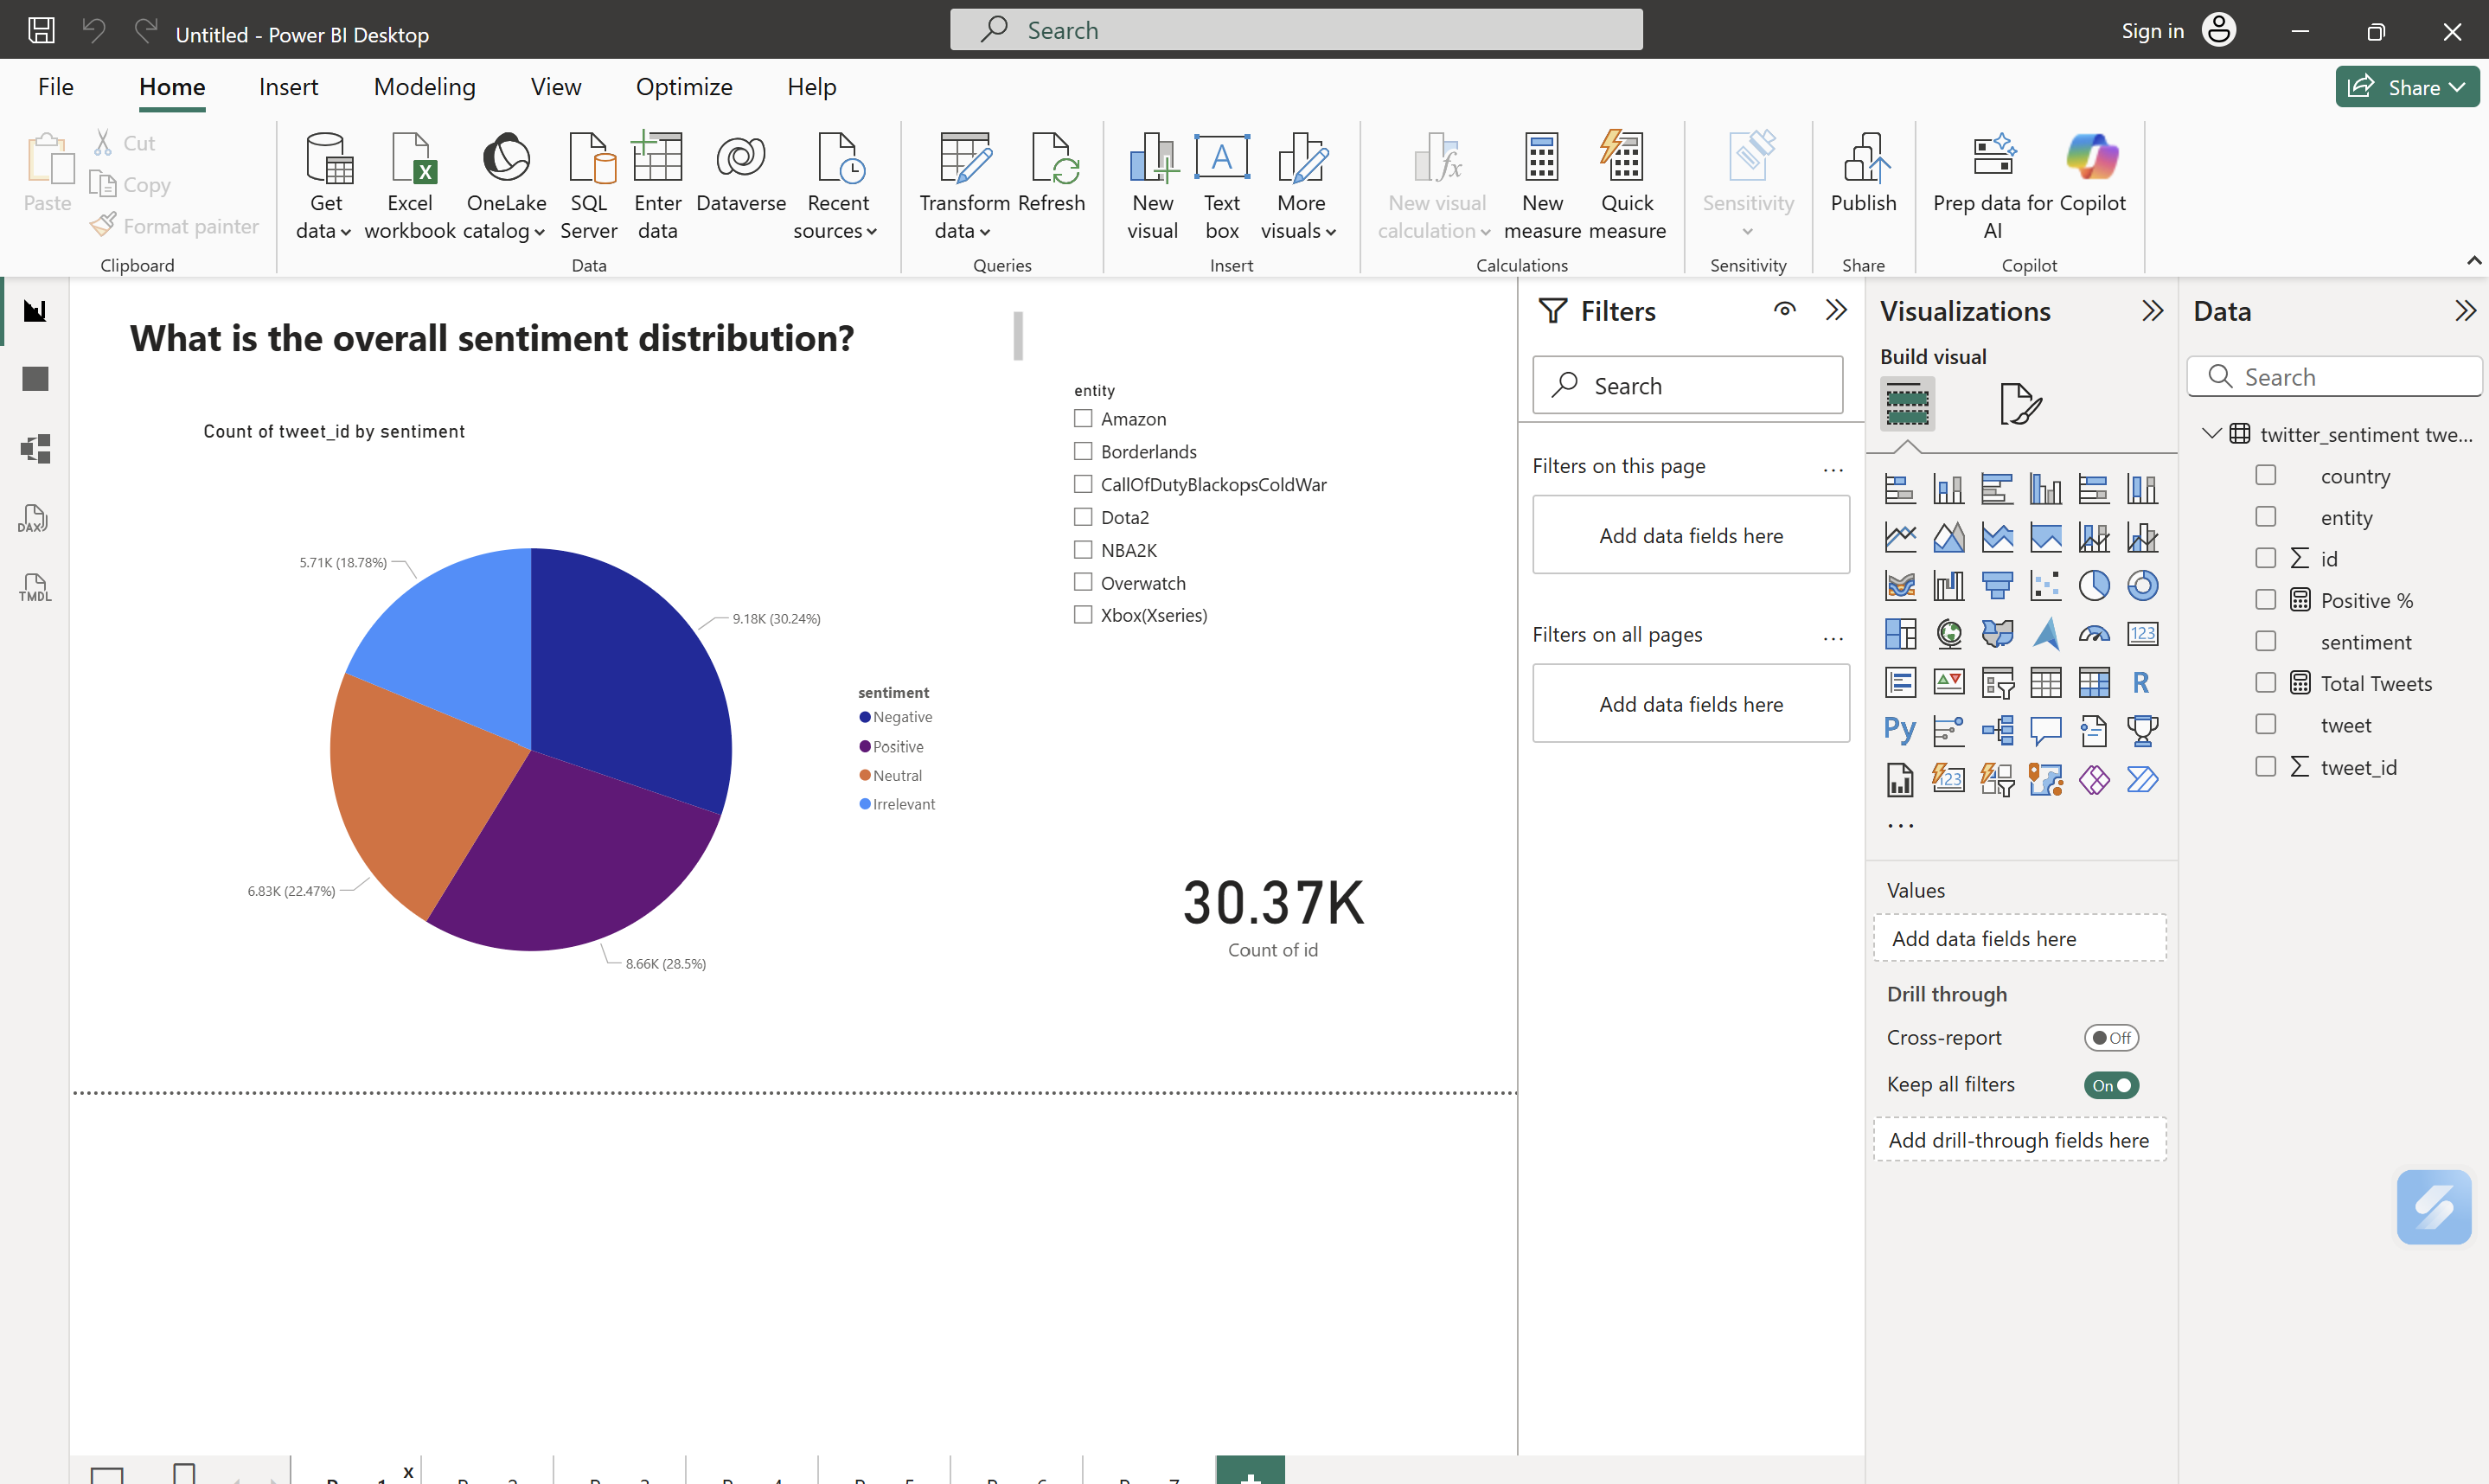

Layout of this report page (visuals, bound fields, positions):
{"tool":"powerbi","page":{"name":"Page 1","canvas":[1280,720],"ordinal":0},"visuals":[{"type":"pieChart","fields":{"Y":["CountNonNull(twitter_sentiment tweets.tweet_id)"],"Category":["twitter_sentiment tweets.sentiment"]},"box":[113.3,127.1,670.6,563.4],"z":0},{"type":"textbox","box":[47.5,26,800.8,61.2],"z":1000},{"type":"slicer","fields":{"Values":["twitter_sentiment tweets.entity"]},"box":[875.8,87.3,378.2,248],"z":2000},{"type":"card","fields":{"Values":["CountNonNull(twitter_sentiment tweets.id)"]},"box":[875.8,444,378.2,225.1],"z":3000}]}

Visuals, with their boxes on the page's 1280x720 design canvas (x1, y1, x2, y2). These are canvas units, not pixel positions in the 2489x1484 screenshot, which may show the page scaled, cropped or inside an application window:
pieChart - CountNonNull(twitter_sentiment tweets.tweet_id) x twitter_sentiment tweets.sentiment: region(113, 127, 784, 690)
textbox: region(48, 26, 848, 87)
slicer - twitter_sentiment tweets.entity: region(876, 87, 1254, 335)
card - CountNonNull(twitter_sentiment tweets.id): region(876, 444, 1254, 669)
